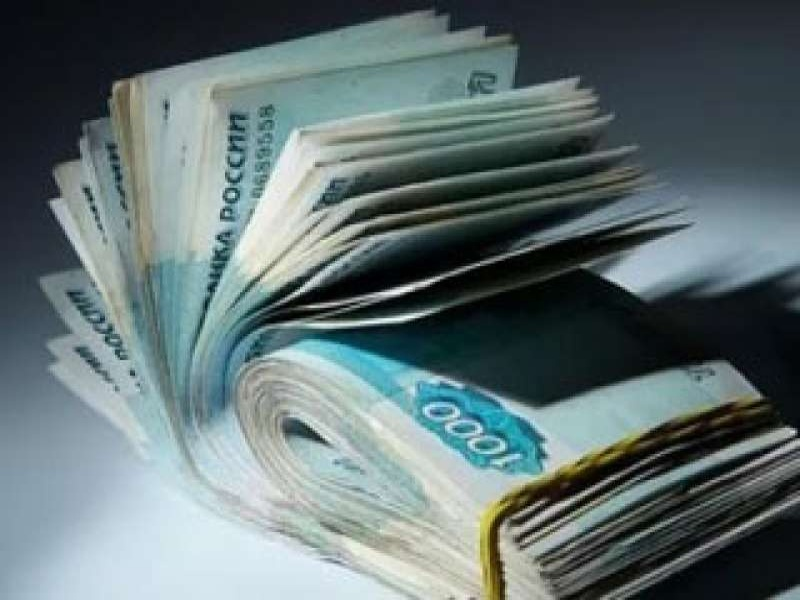cash: (38, 8, 800, 600)
